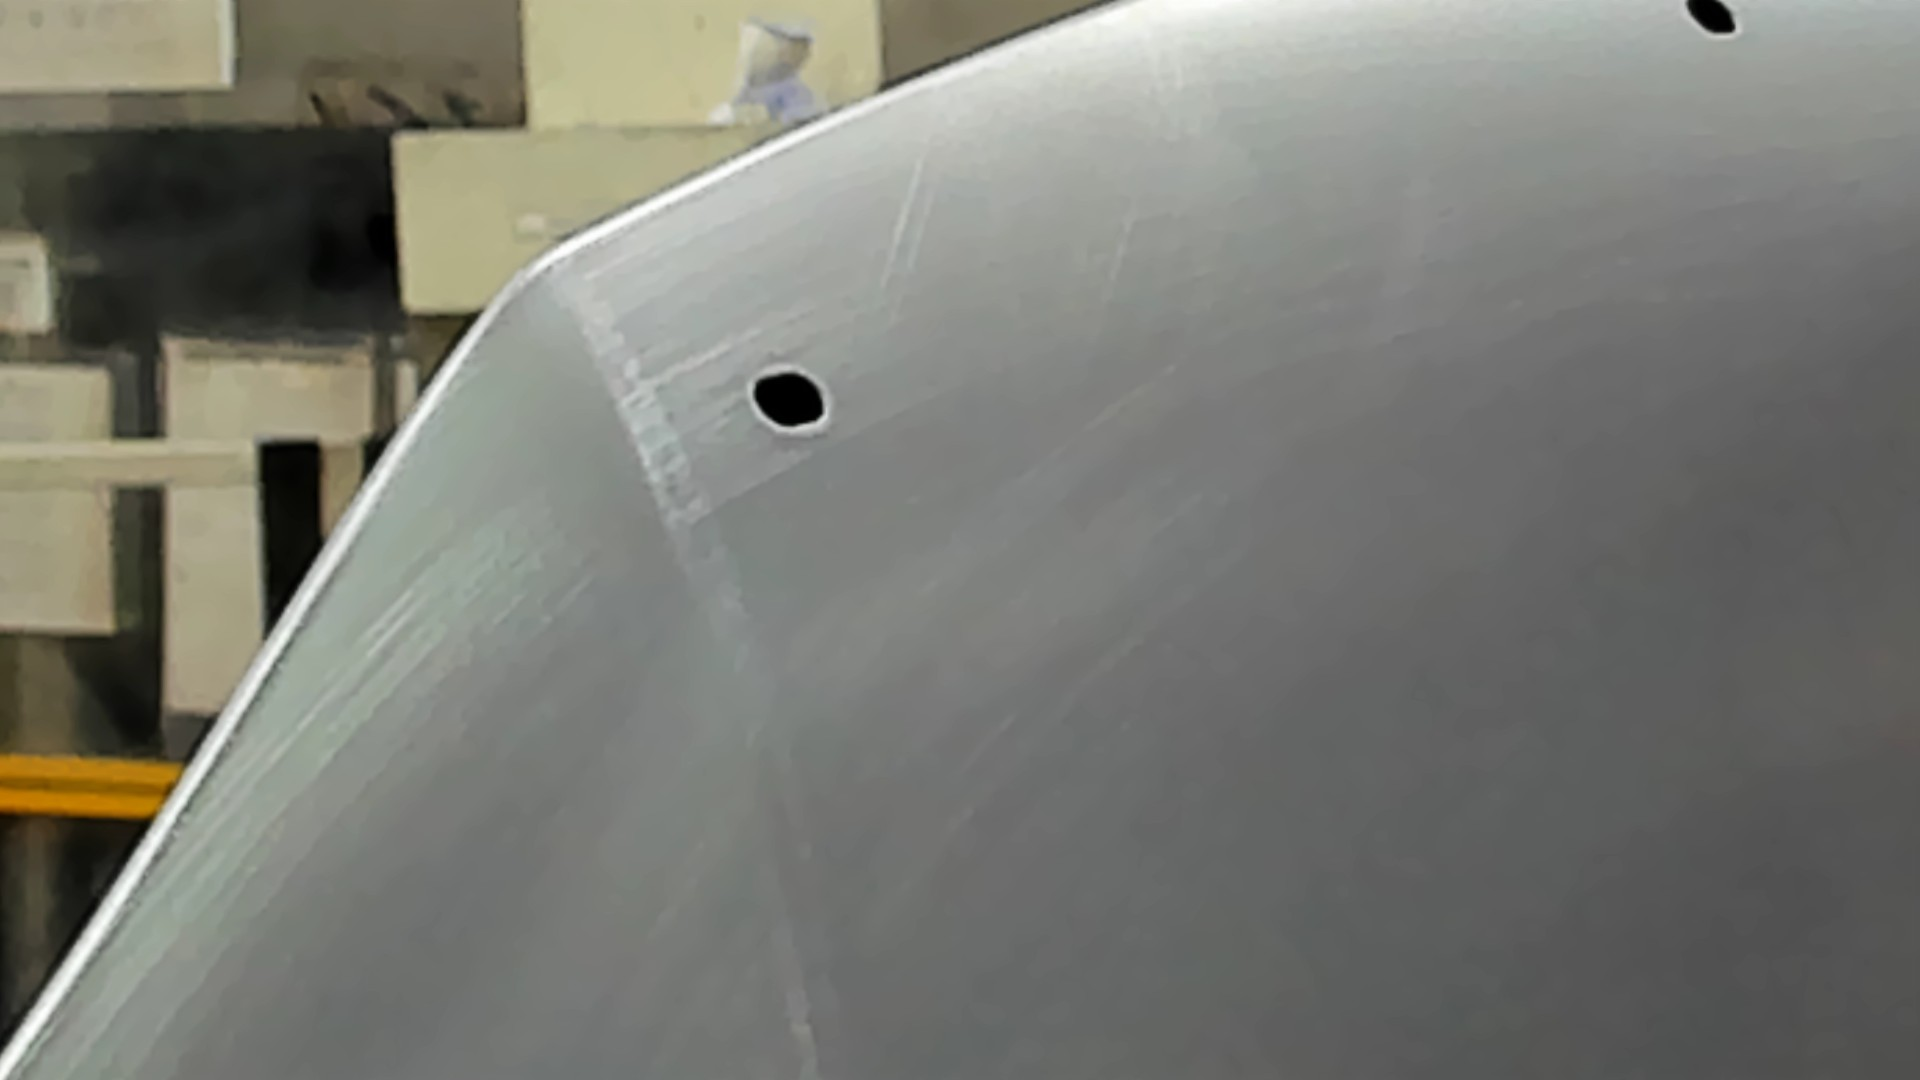amorfo: (742, 363, 837, 436), (1683, 1, 1746, 46)
